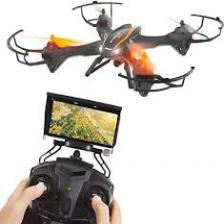drone: (0, 0, 224, 100)
